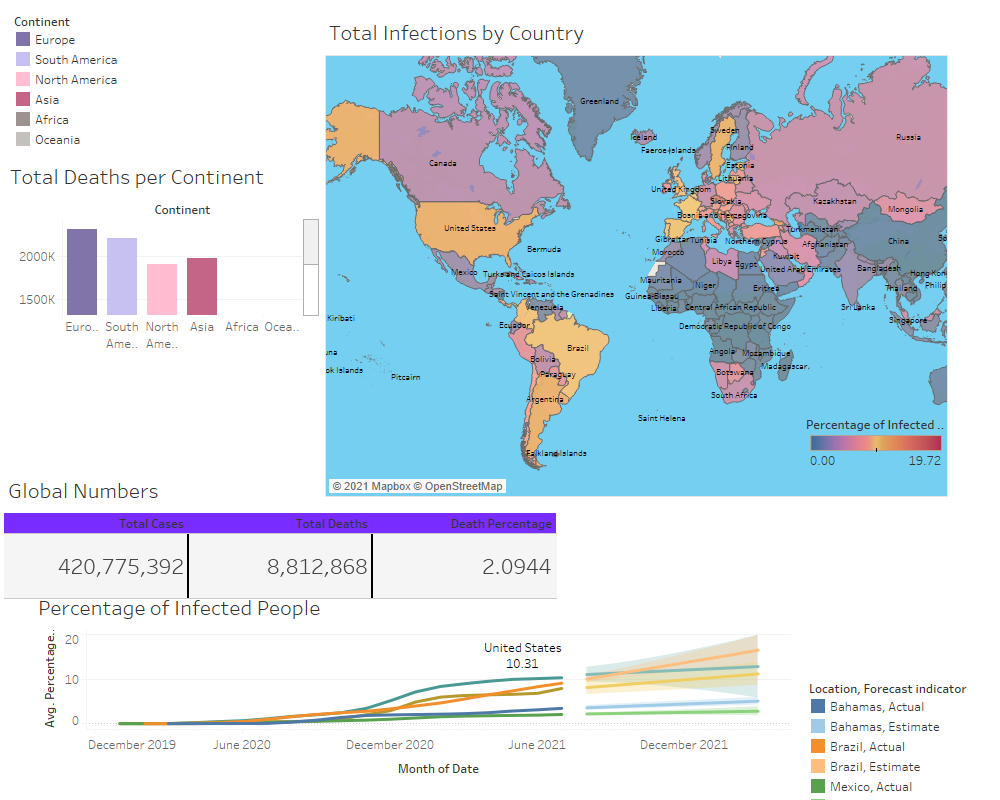

What the dashboard file says about the page in this screenshot:
{"tool":"tableau","page":{"name":"Dashboard 1","canvas":[1000,800],"ordinal":0},"visuals":[{"type":"legend","title":"Sheet 2","param":"[federated.0f5mkdh02ri9011b6ynod1whnup5].[none:location:nk]","box":[13,11,140,138]},{"type":"worksheet","title":"Sheet 3","mark":"Automatic","box":[325,12,623,485]},{"type":"worksheet","title":"Sheet 2","mark":"Automatic","rows":["TotalDeathCount"],"cols":["location"],"box":[6,156,332,197]},{"type":"legend","title":"Sheet 3","param":"[federated.05xpy8y1sqfe2t15nrynh1yd4dod].[sum:PercentageofInfectedPopulation:qk]","box":[806,412,140,67]},{"type":"worksheet","title":"Sheet 1","mark":"Automatic","box":[4,470,936,197]},{"type":"worksheet","title":"Sheet 4","mark":"Automatic","rows":["PercentageofInfectedPopulation"],"cols":["date"],"box":[34,587,757,197]}]}

Visuals, with their boxes in screenshot pixels (x1, y1, x2, y2), scaled from the page's 1000x800 canvas onto the 1000x800 screenshot:
"Sheet 2" legend: 13/11/153/149
"Sheet 3" worksheet: 325/12/948/497
"Sheet 2" worksheet: 6/156/338/353
"Sheet 3" legend: 806/412/946/479
"Sheet 1" worksheet: 4/470/940/667
"Sheet 4" worksheet: 34/587/791/784
